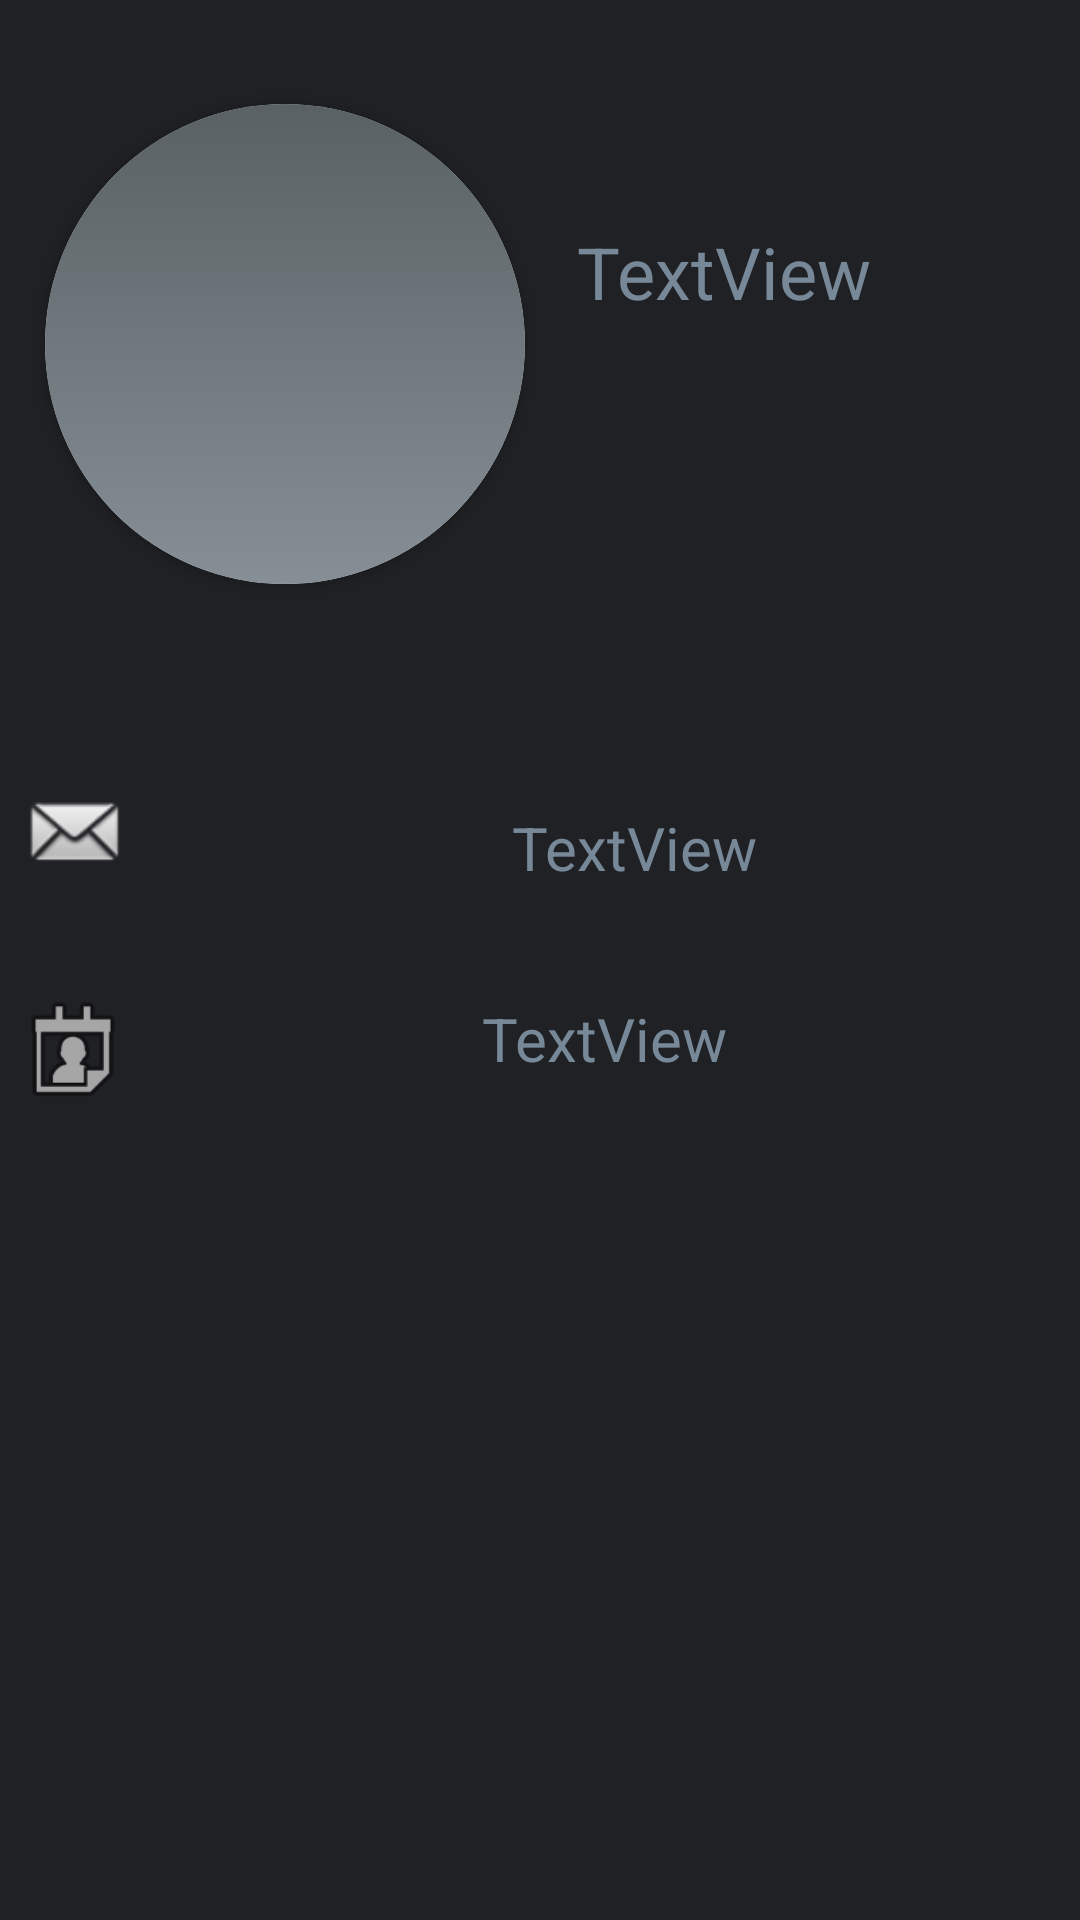

Screen size 1080×1920. Icon name, then its box in pixels as box(x1, y1, x2, y2):
sym action email: box(30, 802, 119, 860)
